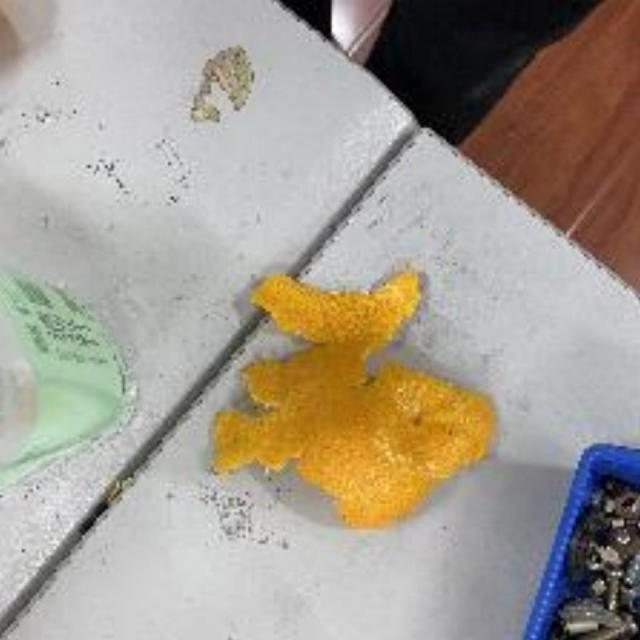orange peel: (210, 266, 500, 533)
